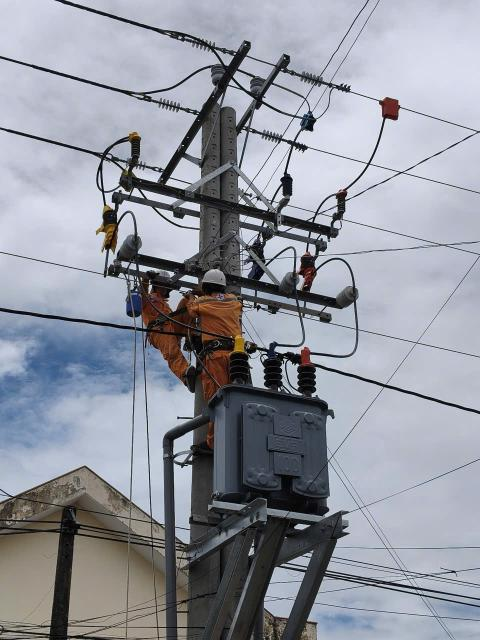gloves: (193, 284, 208, 299), (180, 288, 195, 302), (141, 269, 158, 281)
harness: (207, 340, 235, 351), (144, 321, 167, 328)
helmet: (199, 264, 229, 291), (152, 267, 180, 289)
shoes: (188, 440, 230, 458), (184, 362, 200, 393), (180, 340, 202, 352)
